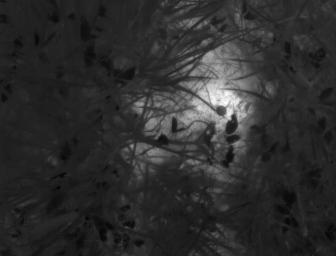landmine: (128, 18, 273, 184)
